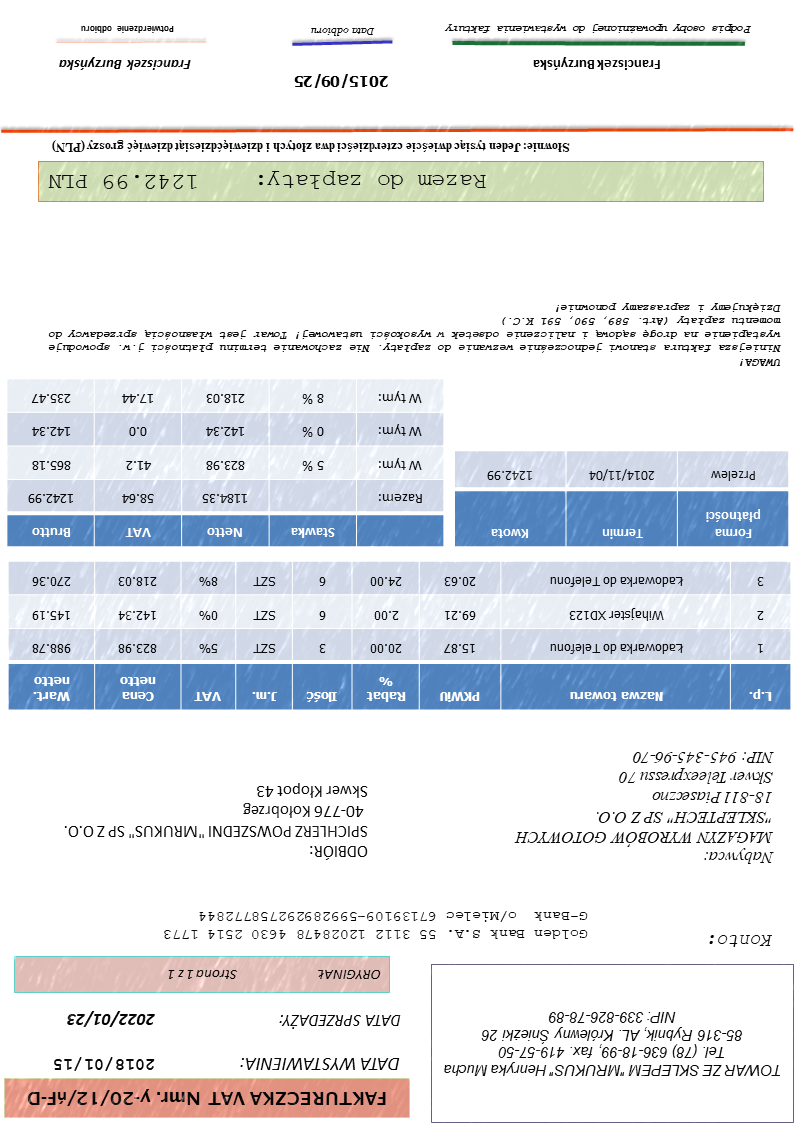Table: (8, 560, 792, 711), (5, 378, 445, 548), (455, 449, 790, 549)
TextBox: (46, 301, 784, 370), (513, 749, 776, 866), (441, 1008, 784, 1082), (64, 782, 370, 863), (161, 907, 589, 943), (48, 168, 489, 194), (51, 139, 571, 156), (27, 1087, 391, 1111), (444, 21, 753, 37), (166, 965, 384, 984), (238, 1055, 402, 1075), (277, 1012, 404, 1031), (58, 55, 194, 72), (532, 56, 664, 73), (53, 1054, 157, 1073), (293, 73, 391, 91), (63, 1011, 158, 1028), (708, 931, 775, 951), (79, 23, 177, 36), (309, 24, 377, 39)
